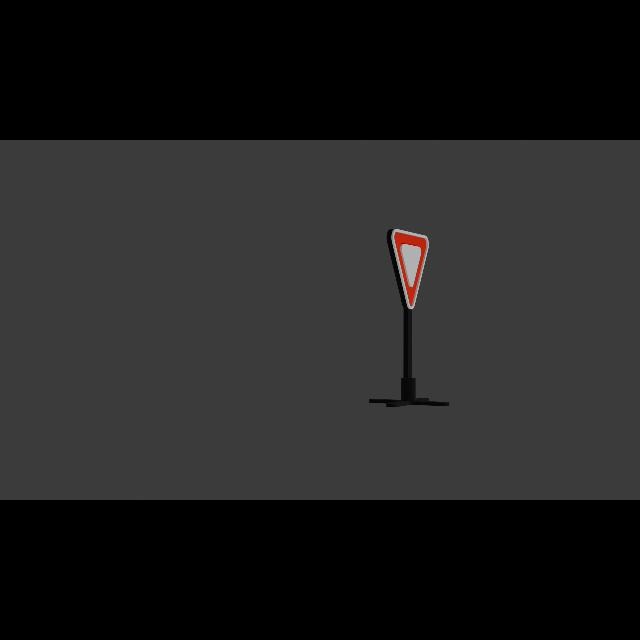sign_yield: (390, 227, 431, 314)
